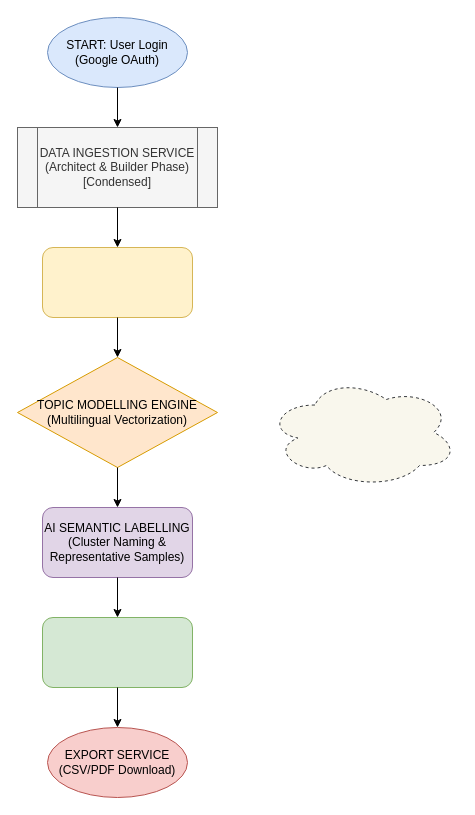
This 475x815 diagram has some shape labels left out. The shapes that lost their labels are listed below. From the top down, each one's centre as x and y in pixels, then its label:
pixel 117 282: Column Selection UI (User selects and confirm column for analysis)
pixel 362 432: STATELESS BOUNDARY: All data held in RAM only. Purged on session end.
pixel 117 652: INTERACTIVE DASHBOARD (Plotly Charts & Categorical Filters)
